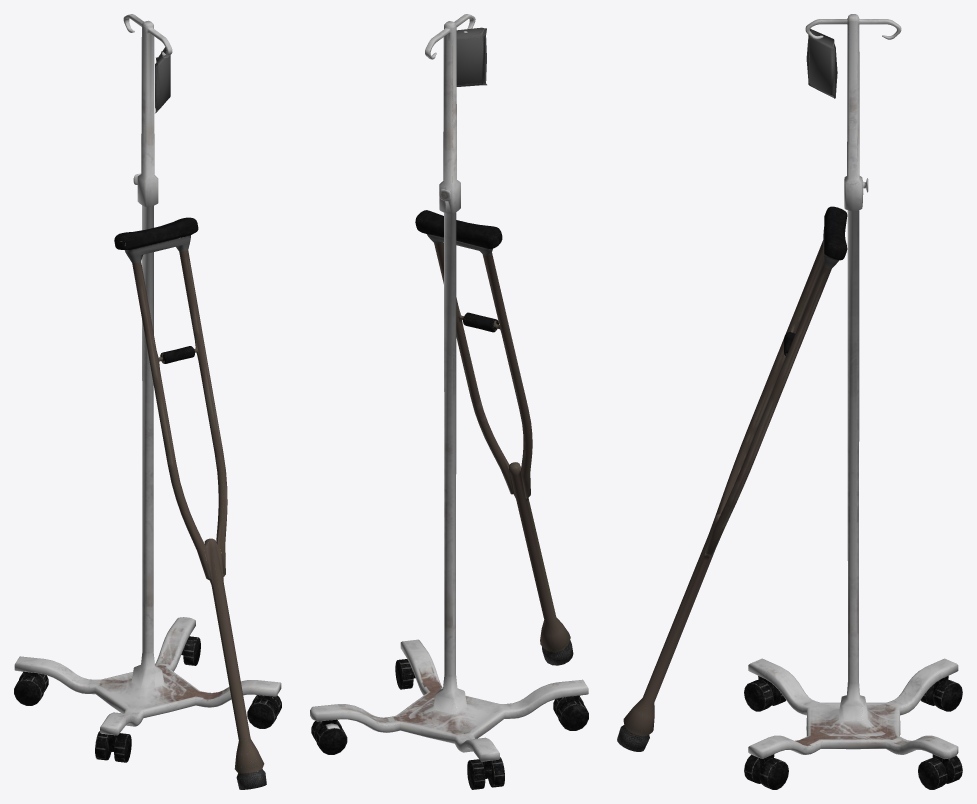
3 views of the same model, side by side, from view 1: azimuth 30°, elevation 25°; view 2: azimuth 150°, elevation 25°; view 3: azimuth 270°, elevation 25° (orthographic). The views are drawn at different scales.
Bounding box in the file's own units: 0.4236 × 1.5 × 0.641.
Materials: 1 (1 with a texture image).
